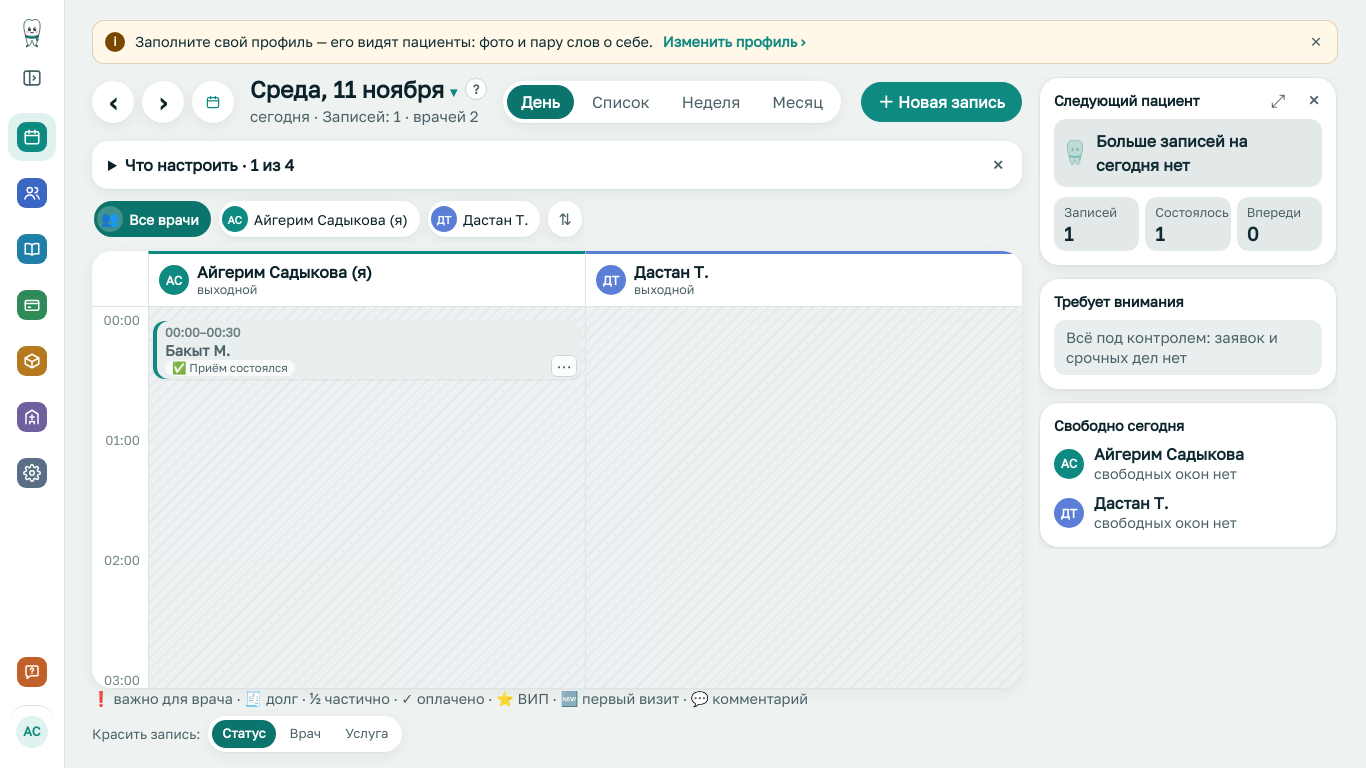
Test: компьютер: сетка «Дня» › состоявшийся без оплаты: «Принять оплату» первым — открывает карточку с оплатой
Click the button "⋯" at (564, 366), box 551,356 -> 577,378
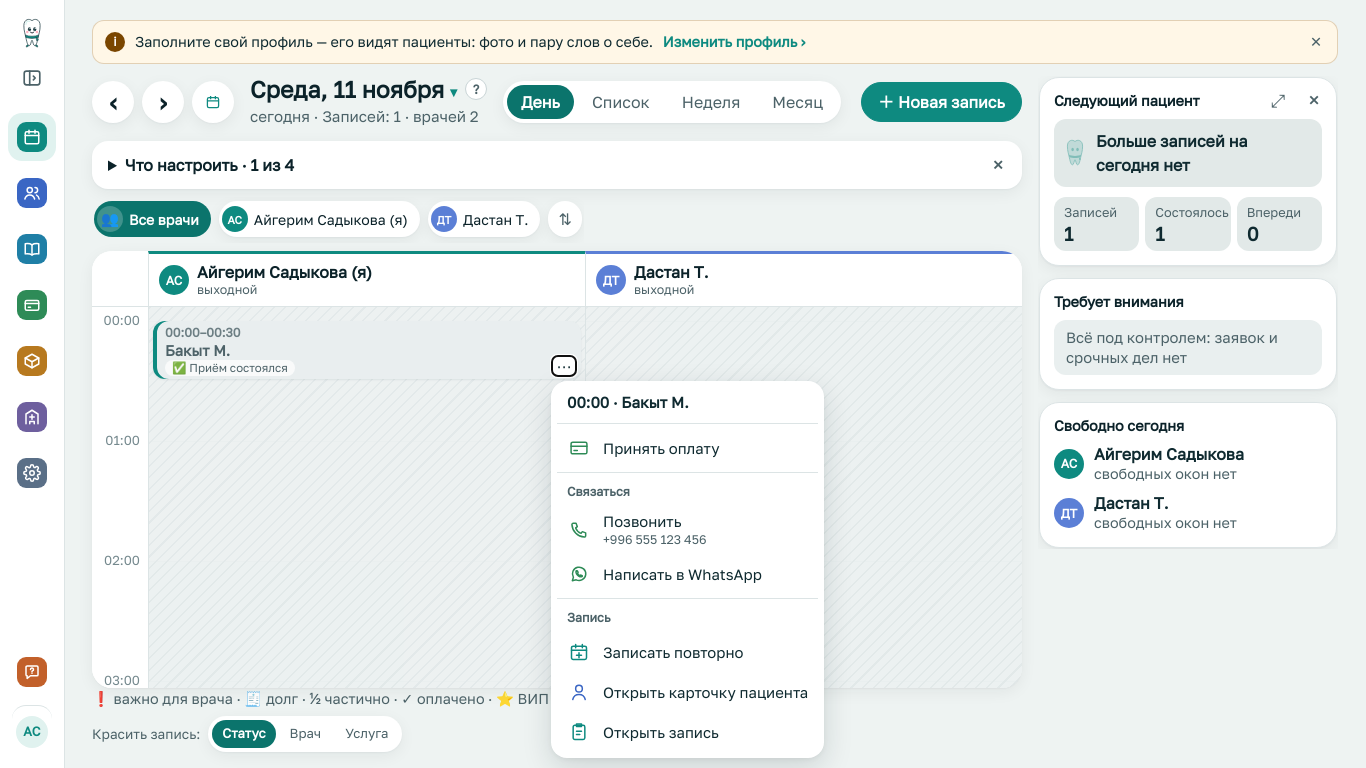
Now the text "Принять оплату" is shown, box 603,438 -> 720,456
Click the menu item "Принять оплату" at (688, 448), box 557,428 -> 818,468
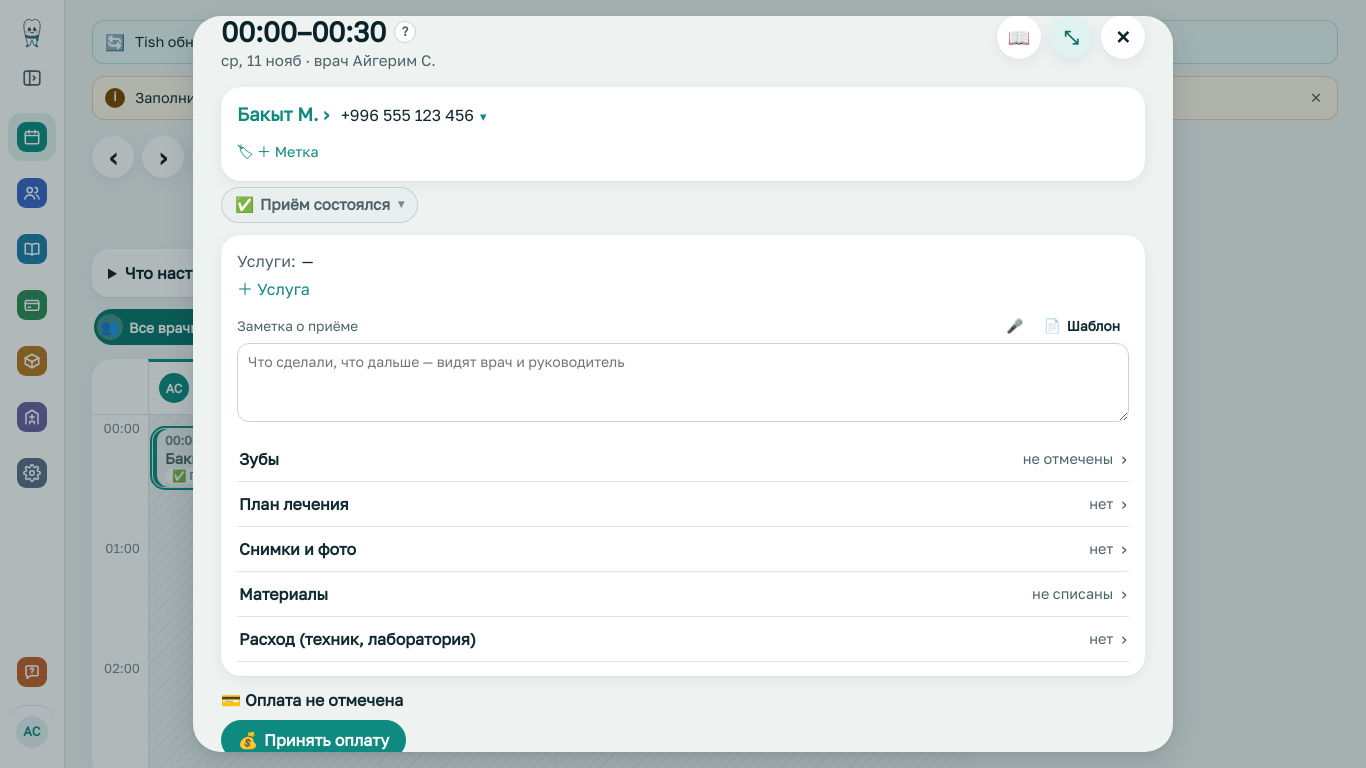
Now the button "💰 Принять оплату" is shown, box 221,720 -> 406,752
